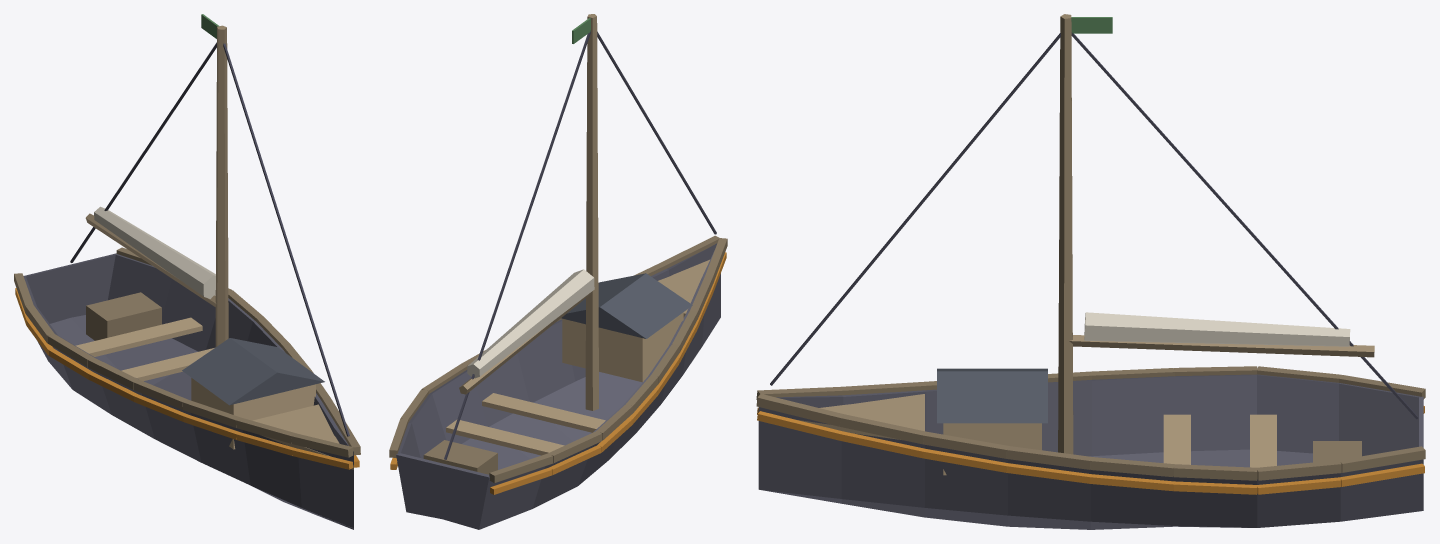
File: moored_boat.glb
3 views of the same model, side by side, from view 1: azimuth 30°, elevation 25°; view 2: azimuth 150°, elevation 25°; view 3: azimuth 270°, elevation 25° (orthographic). The views are drawn at different scales.
Parts seen in each view (by area): view 1: ink_l30, driftwood_d30, slate_d20, driftwood_d20, ember_d15, driftwood_d10, bone_d10, driftwood_d5, ink_l20, driftwood_d15; view 2: ink_l30, driftwood_d30, driftwood_d20, slate_d20, driftwood_d5, driftwood_d10, bone_d10, ember_d15, ink_l20, driftwood_d15; view 3: ink_l30, driftwood_d30, driftwood_d20, ember_d15, bone_d10, slate_d20, ink_l20, driftwood_d10, driftwood_d15, driftwood_d5.
Boxes of the visible parts, x1=… form: ink_l30: x1=23, y1=253, x2=353, y2=529; driftwood_d30: x1=14, y1=247, x2=360, y2=457; slate_d20: x1=182, y1=338, x2=324, y2=405; driftwood_d20: x1=85, y1=25, x2=228, y2=346; ember_d15: x1=15, y1=288, x2=359, y2=469; driftwood_d10: x1=75, y1=317, x2=214, y2=381; bone_d10: x1=94, y1=206, x2=215, y2=298; driftwood_d5: x1=191, y1=378, x2=315, y2=449; ink_l20: x1=70, y1=42, x2=349, y2=436; driftwood_d15: x1=252, y1=404, x2=353, y2=469; ink_l30: x1=396, y1=243, x2=720, y2=529; driftwood_d30: x1=389, y1=235, x2=727, y2=482; driftwood_d20: x1=459, y1=14, x2=598, y2=410; slate_d20: x1=561, y1=273, x2=692, y2=338; driftwood_d5: x1=562, y1=312, x2=683, y2=382; driftwood_d10: x1=446, y1=393, x2=605, y2=455; bone_d10: x1=467, y1=269, x2=594, y2=378; ember_d15: x1=390, y1=252, x2=726, y2=494; ink_l20: x1=444, y1=30, x2=716, y2=459; driftwood_d15: x1=658, y1=259, x2=709, y2=317; ink_l30: x1=758, y1=374, x2=1423, y2=529; driftwood_d30: x1=756, y1=366, x2=1425, y2=480; driftwood_d20: x1=1058, y1=14, x2=1374, y2=454; ember_d15: x1=757, y1=406, x2=1424, y2=494; bone_d10: x1=1084, y1=312, x2=1350, y2=346; slate_d20: x1=937, y1=368, x2=1047, y2=423; ink_l20: x1=770, y1=32, x2=1418, y2=419; driftwood_d10: x1=1163, y1=414, x2=1276, y2=467; driftwood_d15: x1=796, y1=394, x2=924, y2=439; driftwood_d5: x1=943, y1=423, x2=1041, y2=475.
Bounding box in the file's own units: 2.03 × 4.6 × 5.43.
